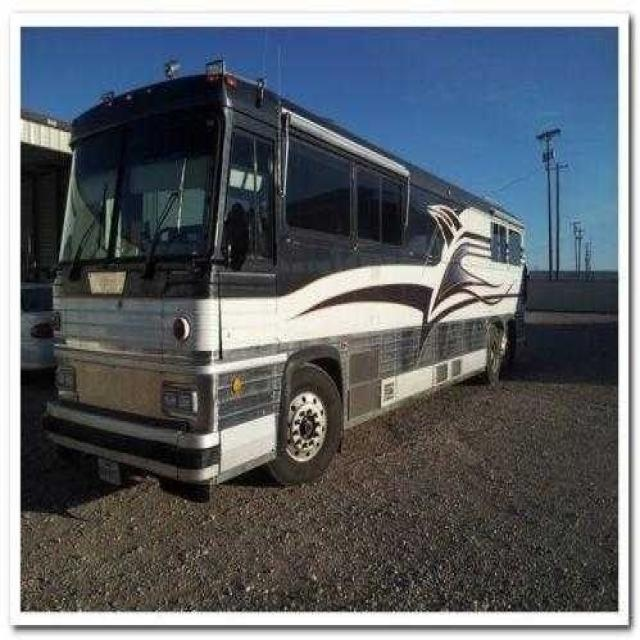Bus: (38, 54, 534, 490)
